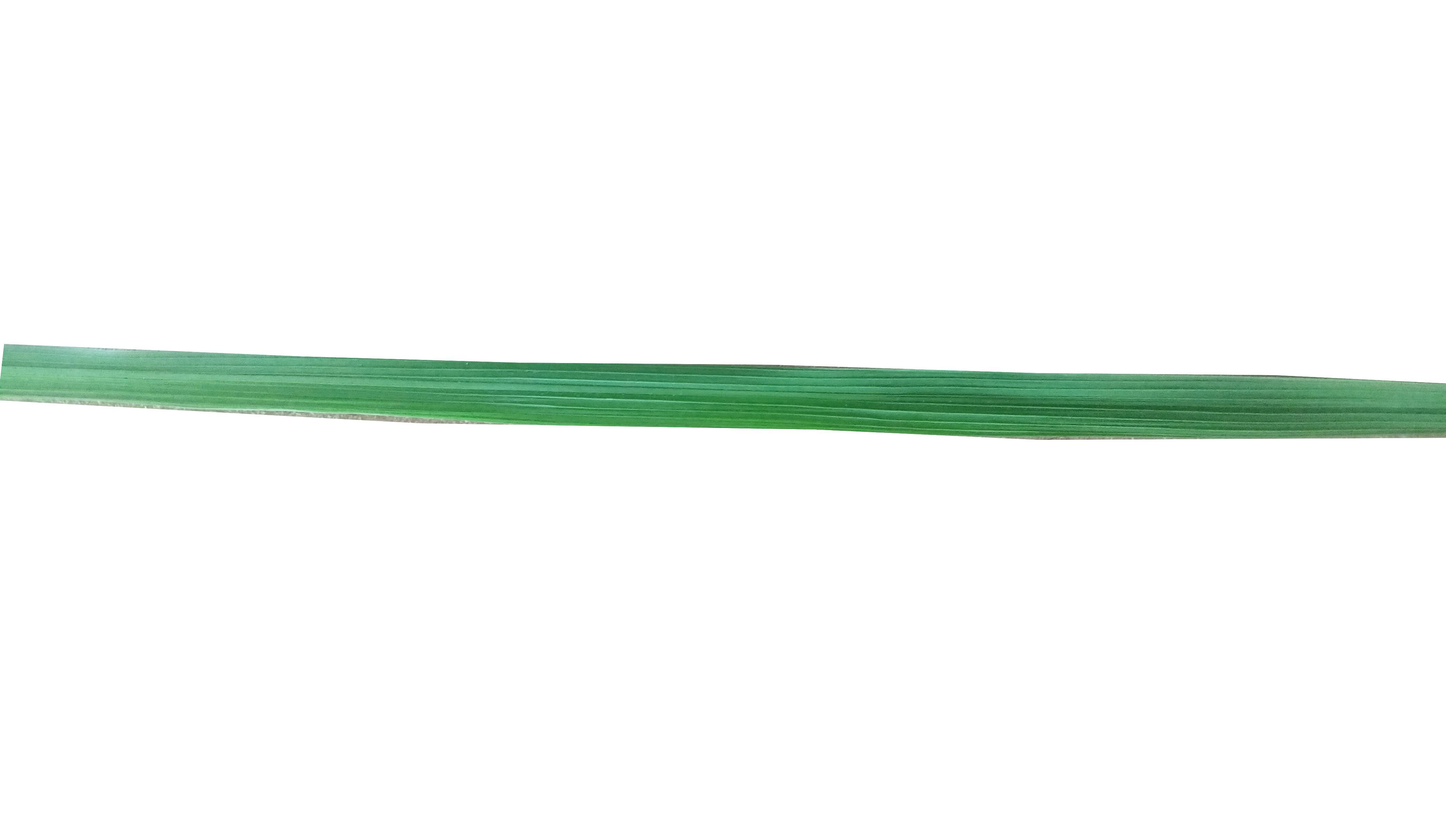Healthy: (0, 346, 1446, 443)
